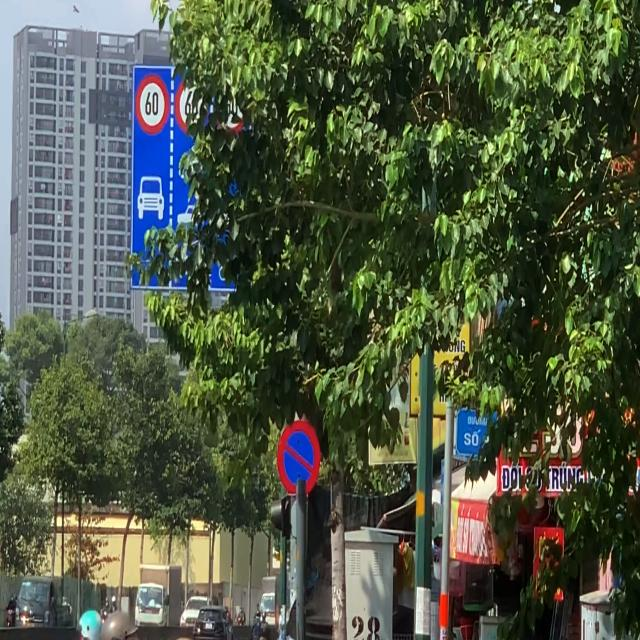Cam do: (277, 420, 321, 496)
Toc do toi da: (135, 74, 170, 137)
